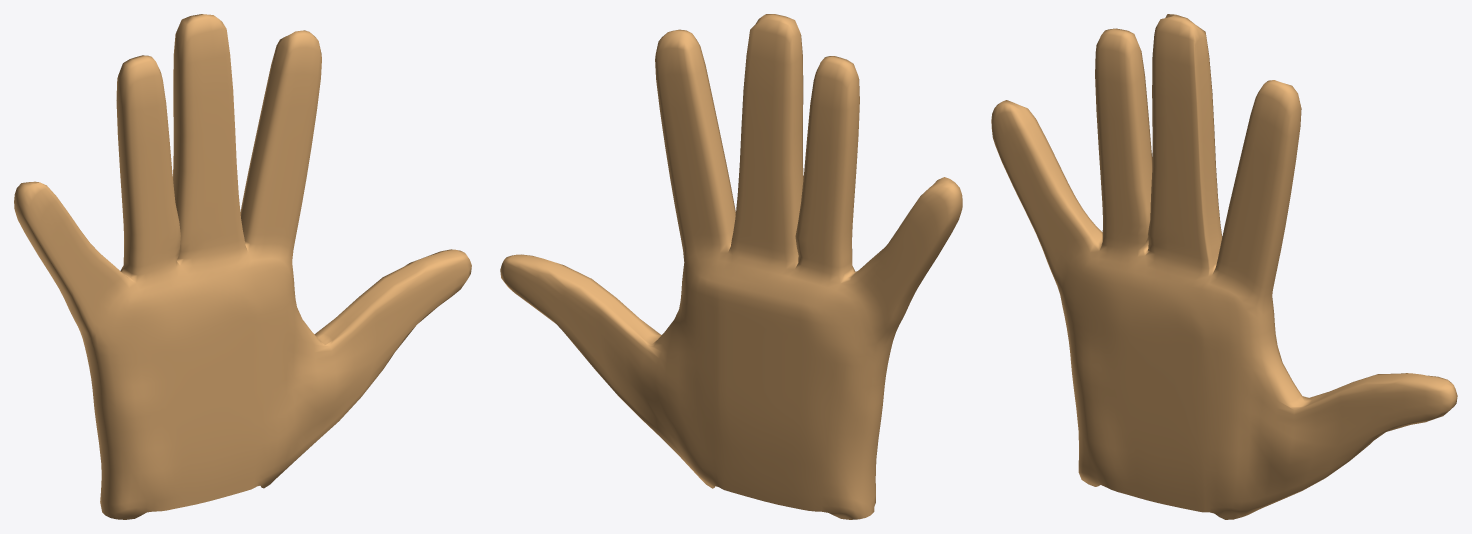
Rendered from hand2.glb.
The picture shows the model from 3 angles, left to right: view 1: azimuth 30°, elevation 25°; view 2: azimuth 150°, elevation 25°; view 3: azimuth 330°, elevation 25°; orthographic projection.
Visible parts, largest first — view 1: Cube; view 2: Cube; view 3: Cube.
Boxes of the visible parts, bbox=[...] form: Cube: bbox=[14, 14, 471, 519]; Cube: bbox=[500, 14, 962, 519]; Cube: bbox=[991, 14, 1457, 519].
Bounding box in the file's own units: 6.77 × 6.82 × 0.9034.
